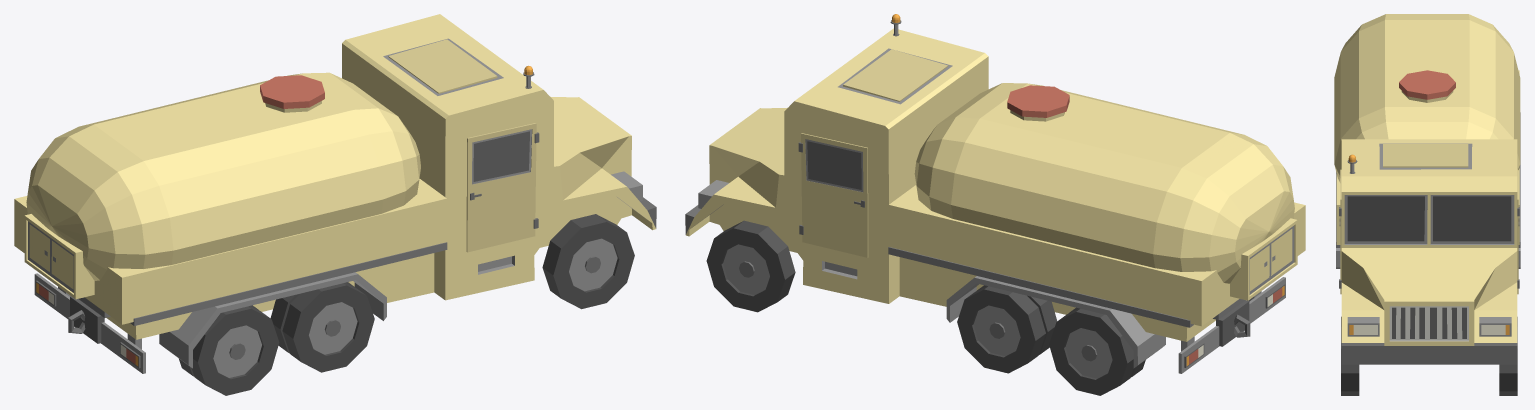
File: kar6.fbx
3 renders of one model, left to right at view 1: azimuth 30°, elevation 25°; view 2: azimuth 150°, elevation 25°; view 3: azimuth 270°, elevation 25°, orthographic. The views are drawn at different scales.
Visible parts, largest first — view 1: Boole_6, Cylinder_11, Cylinder_3, Cylinder_2; view 2: Boole_6, Cylinder_5, Cylinder_6, Cylinder_1; view 3: Boole_6, Cylinder_6, Cylinder_3.
Part boxes in pixels (x1=…): Boole_6: x1=14, y1=14, x2=656, y2=373; Cylinder_11: x1=270, y1=282, x2=374, y2=372; Cylinder_3: x1=542, y1=214, x2=634, y2=309; Cylinder_2: x1=178, y1=305, x2=279, y2=395; Boole_6: x1=685, y1=14, x2=1305, y2=373; Cylinder_5: x1=957, y1=285, x2=1057, y2=373; Cylinder_6: x1=706, y1=220, x2=795, y2=312; Cylinder_1: x1=1049, y1=307, x2=1145, y2=395; Boole_6: x1=1334, y1=14, x2=1520, y2=364; Cylinder_6: x1=1499, y1=317, x2=1517, y2=395; Cylinder_3: x1=1341, y1=316, x2=1359, y2=395.
Bounding box in the file's own units: 683 × 292 × 233.
